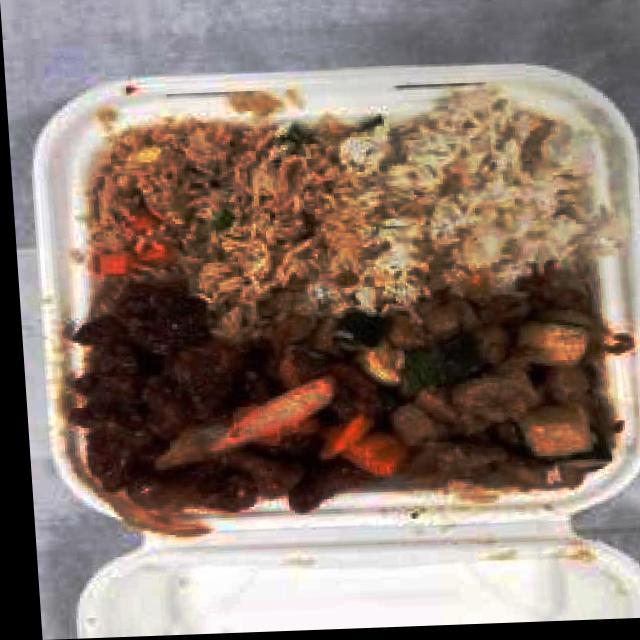Beijing Beef: (97, 334, 396, 515)
Fried Rice: (109, 119, 367, 279)
Kung Pao Chicken: (392, 292, 605, 478)
rice: (359, 109, 589, 293)
